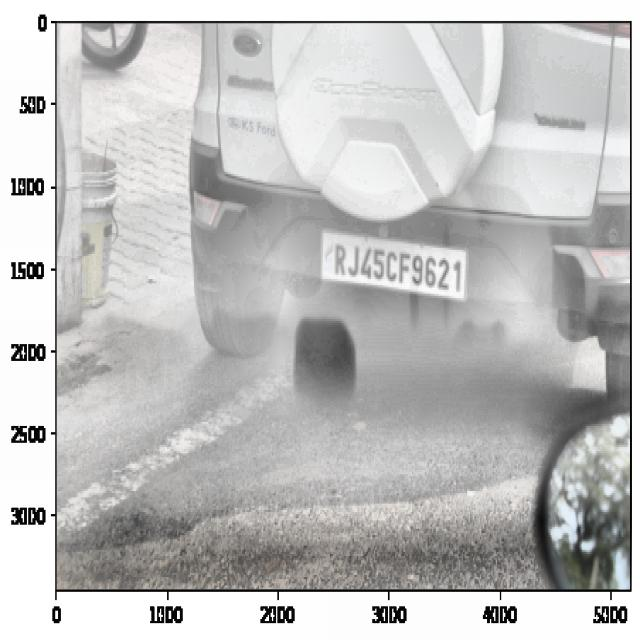license_plate: (328, 237, 466, 299)
